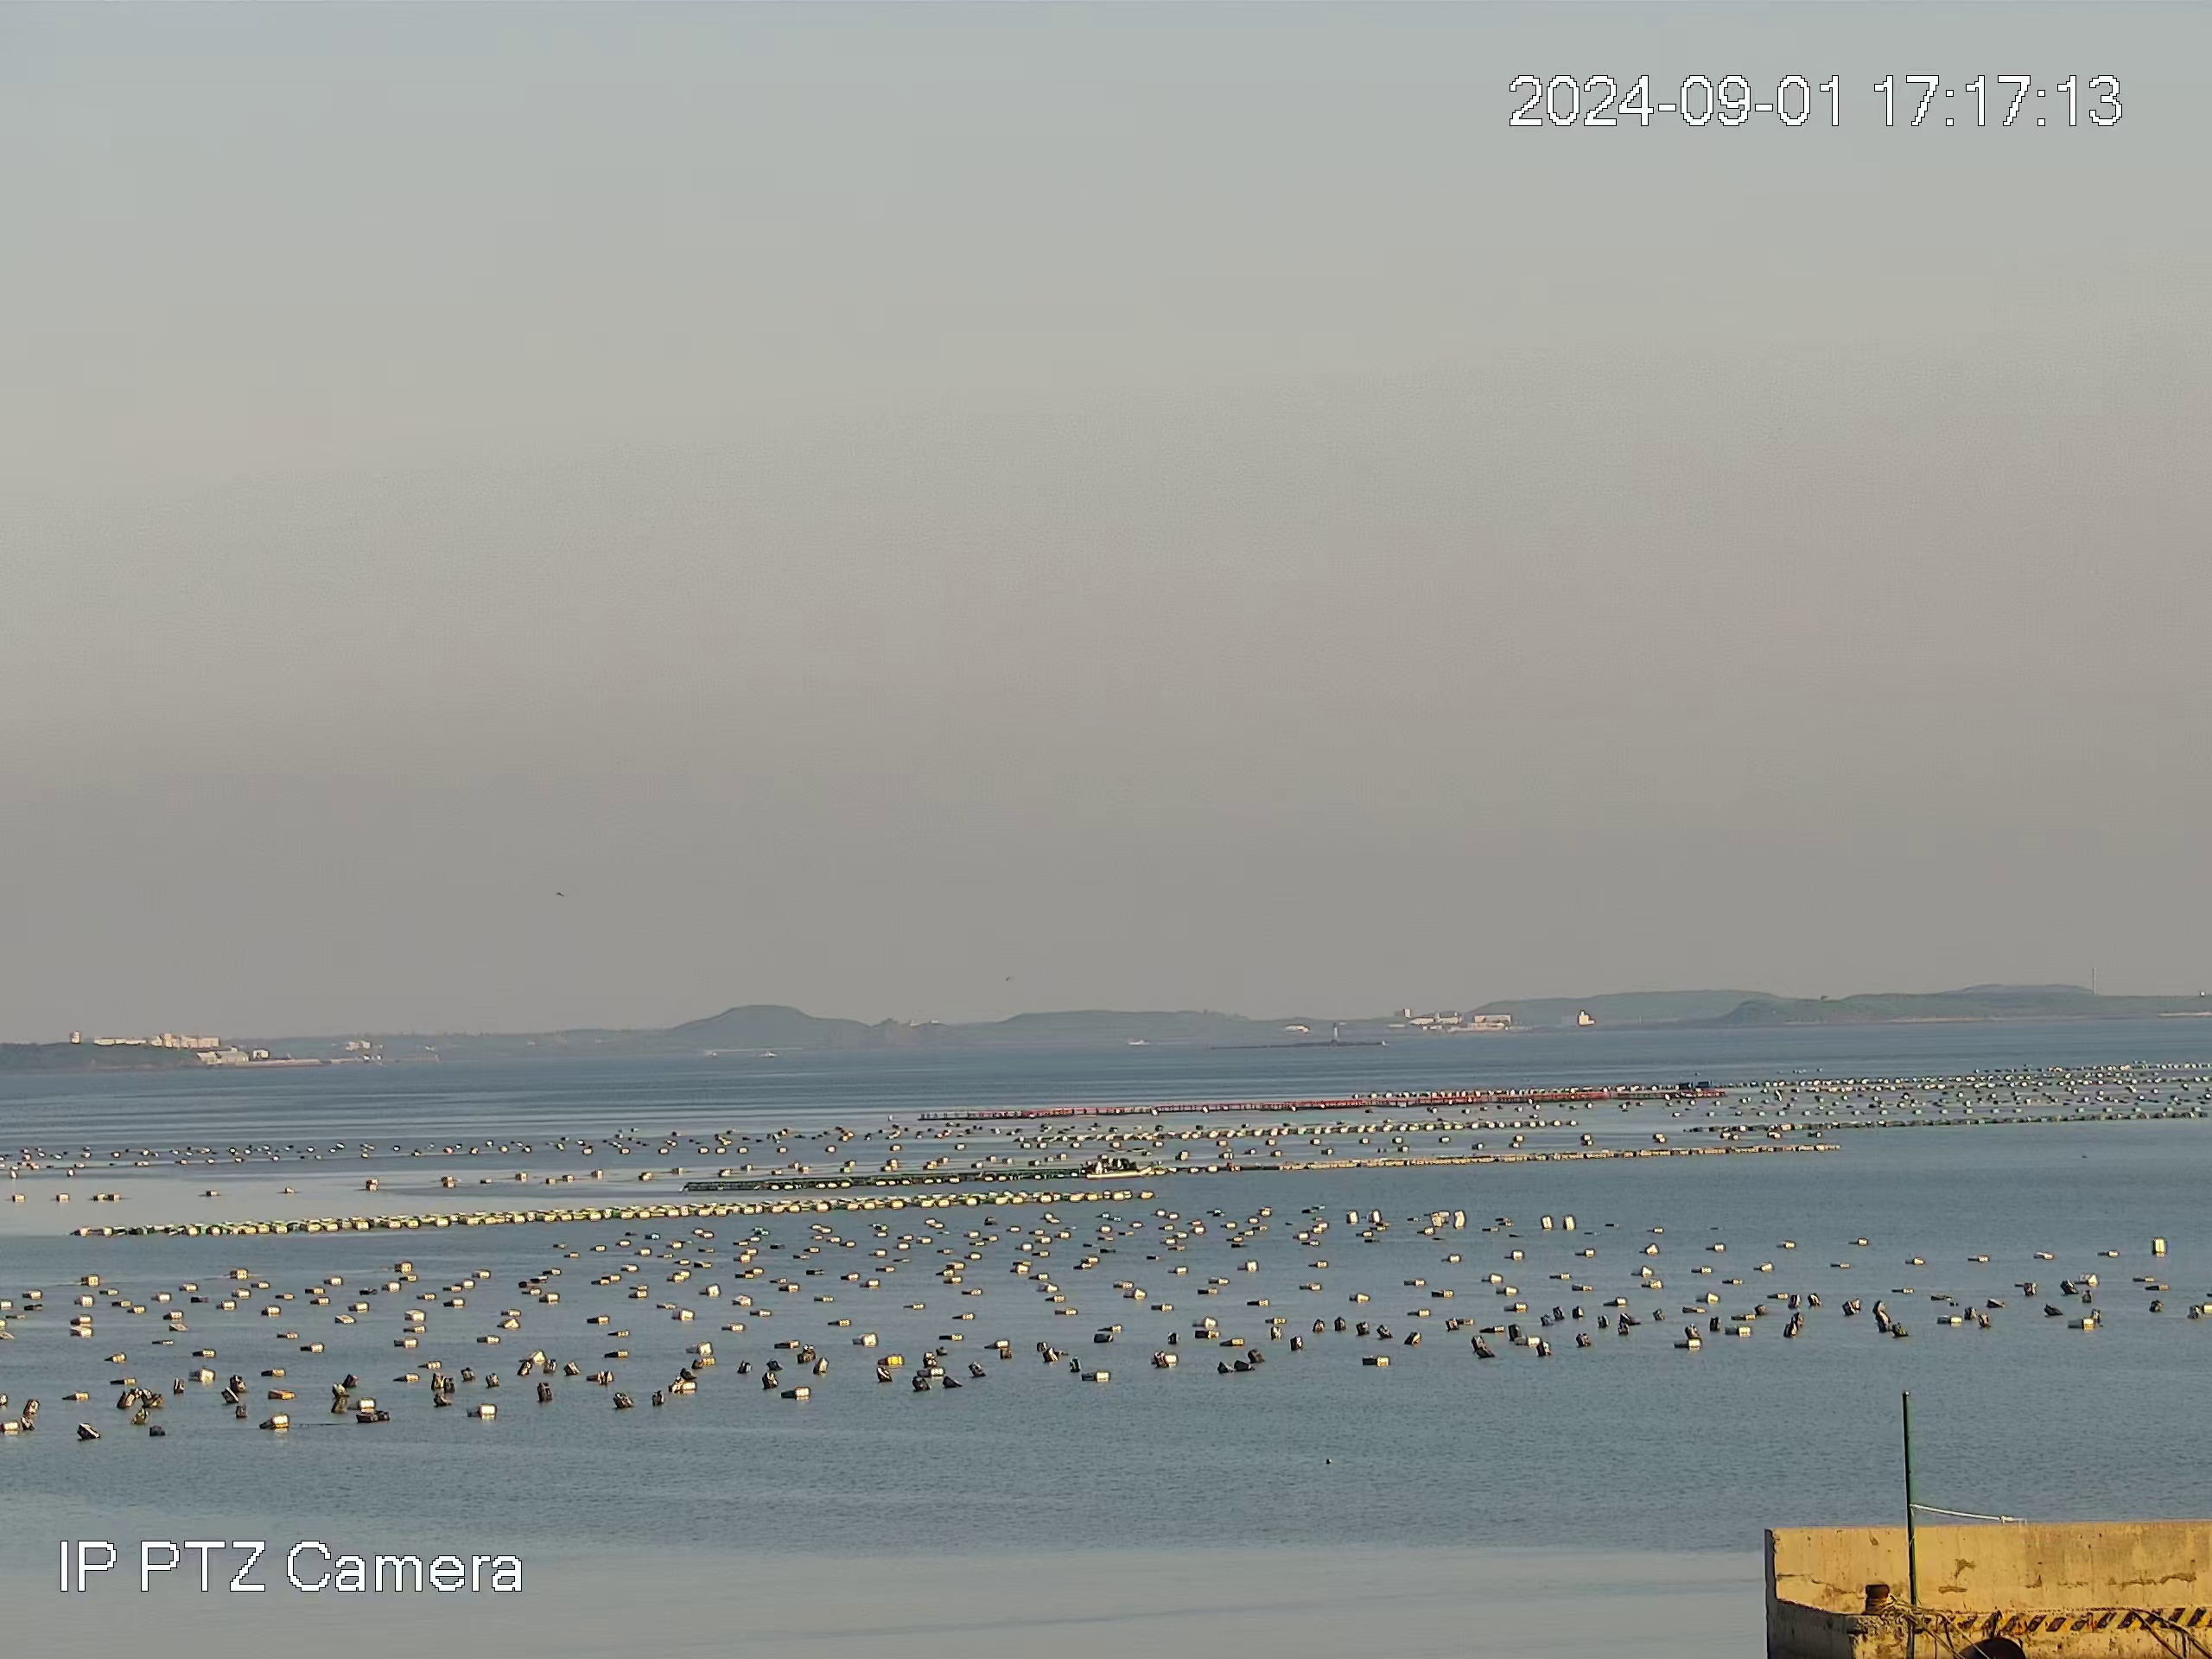boat: (1085, 1152, 1150, 1180)
